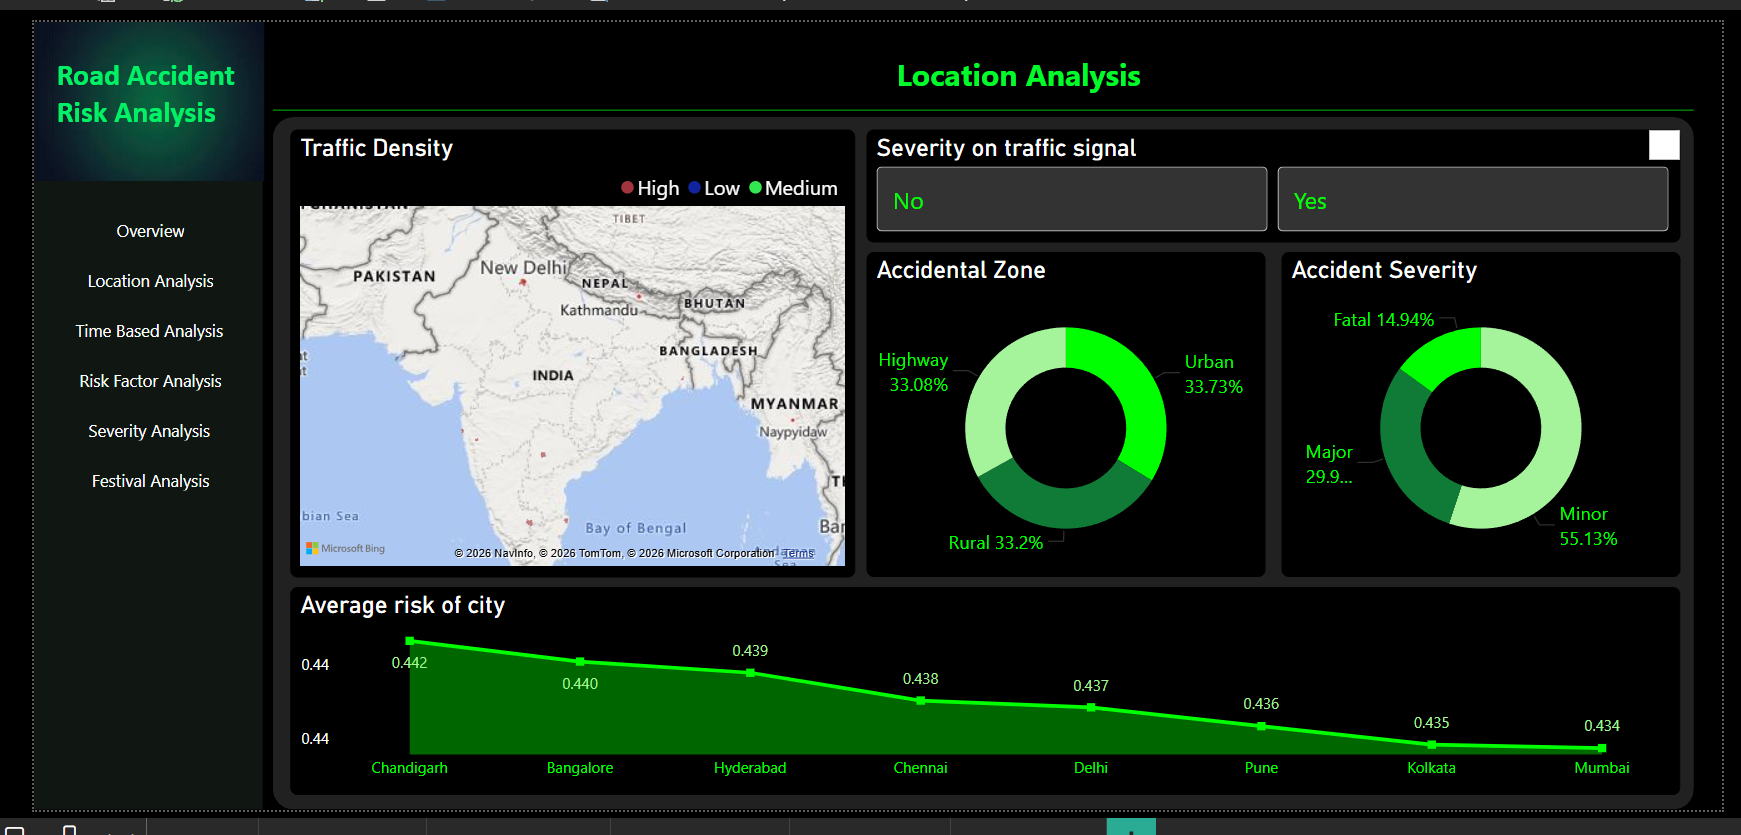

What the dashboard file says about the page in this screenshot:
{"tool":"powerbi","page":{"name":"Location Analysis","canvas":[1350,630],"ordinal":1},"visuals":[{"type":"shape","box":[0,0,183,630],"z":0},{"type":"image","box":[1,0,183,127],"z":1000},{"type":"textbox","box":[13,22,160,85],"z":2000},{"type":"actionButton","box":[13,146,160,40],"z":3000},{"type":"actionButton","box":[13,186,160,40],"z":4000},{"type":"actionButton","box":[12,226,160,40],"z":5000},{"type":"actionButton","box":[13,266,160,40],"z":6000},{"type":"actionButton","box":[12,306,160,40],"z":7000},{"type":"actionButton","box":[13,346,160,40],"z":8000},{"type":"shape","box":[191,65,1137,11],"z":9000},{"type":"textbox","box":[675,21,225,43],"z":10000},{"type":"shape","box":[191,76,1137,554],"z":11000},{"type":"filledMap","title":"Traffic Density","fields":{"Y":["Avg(public accidents.latitude)"],"X":["Avg(public accidents.longitude)"],"Series":["public accidents.traffic_density"],"Category":["public accidents.city"]},"box":[205,86,452,358],"z":12000},{"type":"lineChart","title":"Average risk of city","fields":{"Category":["public accidents.city"],"Y":["Avg(public accidents.risk_score)"]},"box":[205,452,1112,166],"z":13000},{"type":"donutChart","title":"Accidental Zone","fields":{"Category":["public accidents.road_type"],"Y":["CountNonNull(public accidents.accident_id)"]},"box":[666,184,319,260],"z":14000},{"type":"advancedSlicerVisual","title":"Severity on traffic signal","fields":{"Values":["public accidents.traffic_signal"]},"box":[666,86,651,90],"z":15000},{"type":"donutChart","title":"Accident Severity","fields":{"Category":["public accidents.accident_severity"],"Y":["CountNonNull(public accidents.accident_id)"]},"box":[998,184,319,260],"z":16000}]}

Visuals, with their boxes on the page's 1350x630 design canvas (x1, y1, x2, y2). These are canvas units, not pixel positions in the 1741x835 screenshot, which may show the page scaled, cropped or inside an application window:
shape: box=[0, 0, 183, 630]
image: box=[1, 0, 184, 127]
textbox: box=[13, 22, 173, 107]
actionButton: box=[13, 146, 173, 186]
actionButton: box=[13, 186, 173, 226]
actionButton: box=[12, 226, 172, 266]
actionButton: box=[13, 266, 173, 306]
actionButton: box=[12, 306, 172, 346]
actionButton: box=[13, 346, 173, 386]
shape: box=[191, 65, 1328, 76]
textbox: box=[675, 21, 900, 64]
shape: box=[191, 76, 1328, 630]
"Traffic Density" filledMap: box=[205, 86, 657, 444]
"Average risk of city" lineChart: box=[205, 452, 1317, 618]
"Accidental Zone" donutChart: box=[666, 184, 985, 444]
"Severity on traffic signal" advancedSlicerVisual: box=[666, 86, 1317, 176]
"Accident Severity" donutChart: box=[998, 184, 1317, 444]
